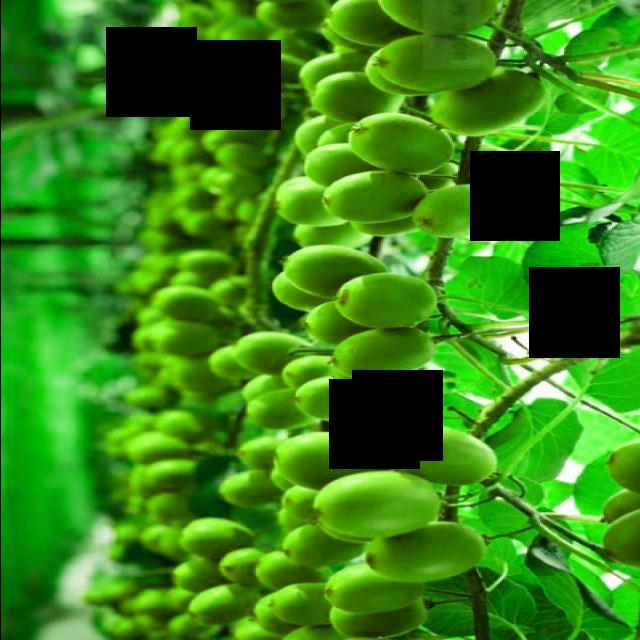kiwi: (314, 471, 446, 539), (431, 67, 552, 138), (367, 520, 489, 583), (372, 34, 502, 92), (384, 424, 500, 486), (349, 111, 457, 176), (274, 432, 391, 490), (282, 243, 393, 300), (331, 274, 439, 330), (328, 328, 439, 381), (323, 171, 431, 225), (413, 183, 506, 238), (325, 567, 426, 614), (314, 73, 404, 122), (292, 380, 385, 423), (330, 599, 433, 637), (234, 331, 316, 377), (276, 176, 351, 226), (179, 516, 258, 559), (285, 524, 367, 564), (247, 388, 317, 431), (210, 60, 282, 97), (155, 284, 223, 322), (216, 95, 288, 130)
